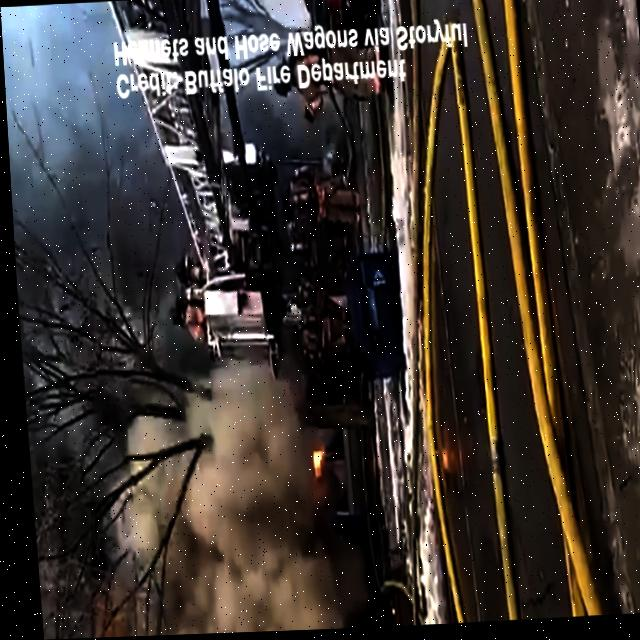Smoke: (101, 381, 367, 638)
